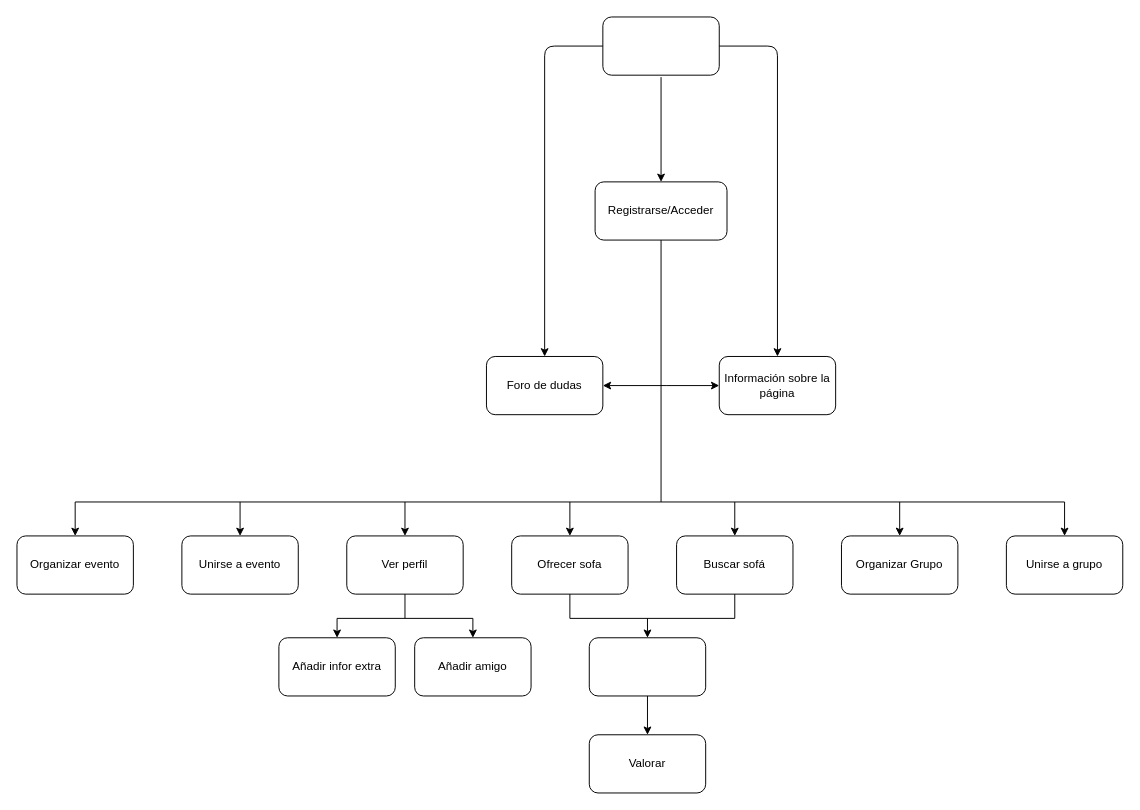
Some shapes in this 1140 by 810 pixel diagram are drawn without their labels. The box of each missing label's shape, as (x1, y1, x2, y2) in pixels:
Conversar con interesado: (588, 637, 706, 696)
Página principal: (602, 16, 719, 75)
